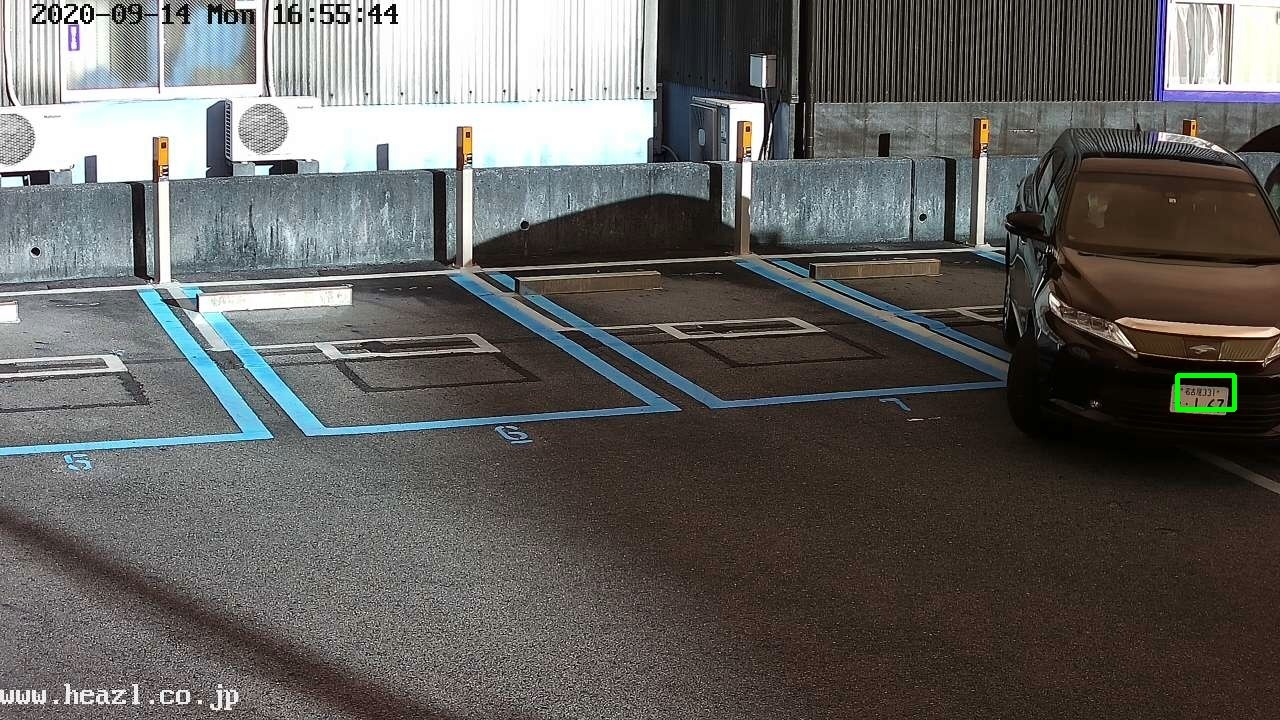number_plate: (1171, 382, 1230, 415)
